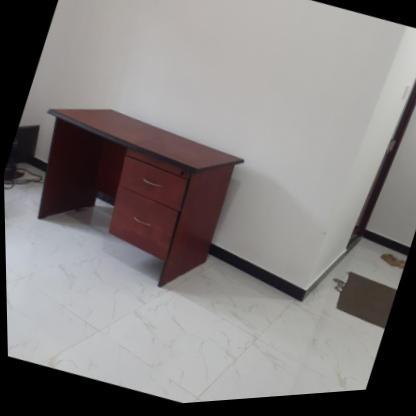Ceramic floor: (3, 179, 404, 406)
Table: (2, 72, 272, 330)
